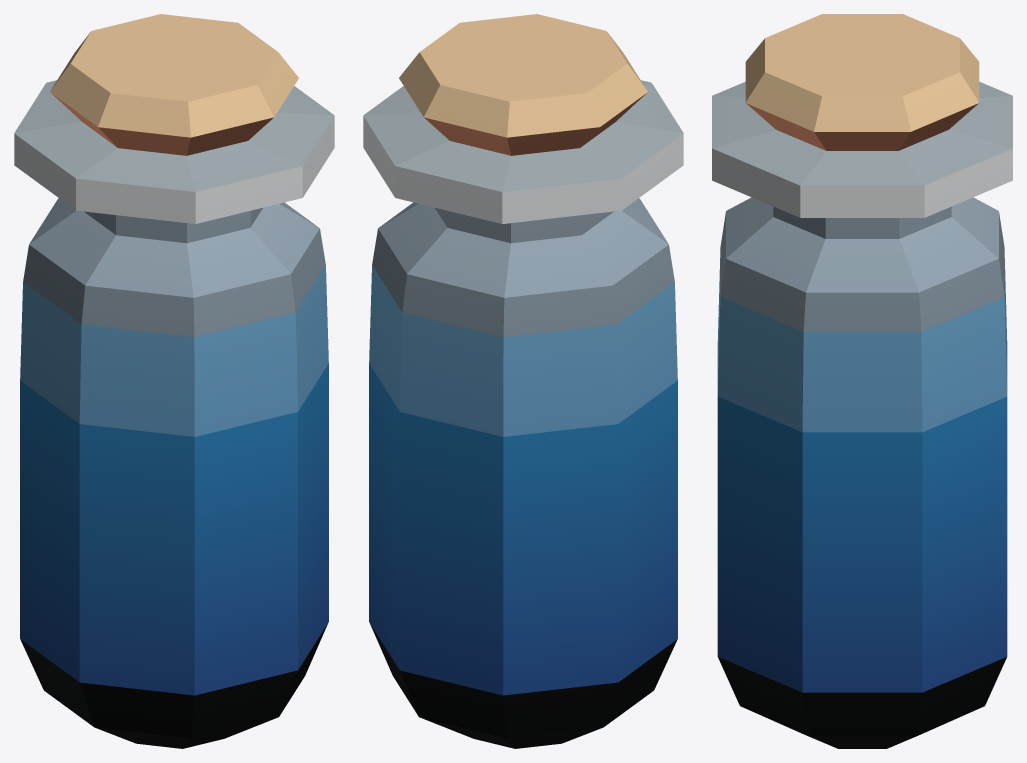
The model's file is source.glb.
The picture shows the model from 3 angles, left to right: view 1: azimuth 30°, elevation 25°; view 2: azimuth 150°, elevation 25°; view 3: azimuth 270°, elevation 25°; orthographic projection.
Visible parts, largest first — view 1: model; view 2: model; view 3: model.
Boxes of the visible parts, box(x1,y1,x2,y2) form: model: box(14, 14, 334, 748); model: box(363, 14, 683, 748); model: box(712, 14, 1012, 748).
Size of the model in its own units: 0.22 by 0.54 by 0.22.
Materials: 1 (1 with a texture image).
